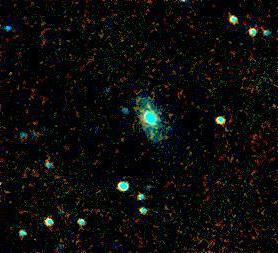star: (132, 90, 162, 120)
